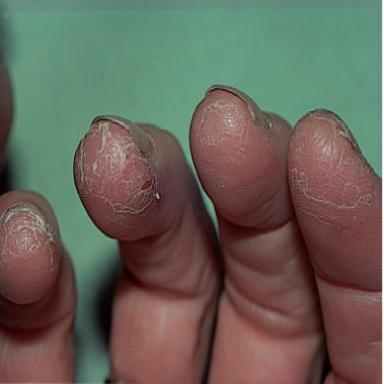eczema: (286, 109, 377, 216), (71, 117, 160, 220), (1, 200, 59, 269), (192, 99, 248, 164)
